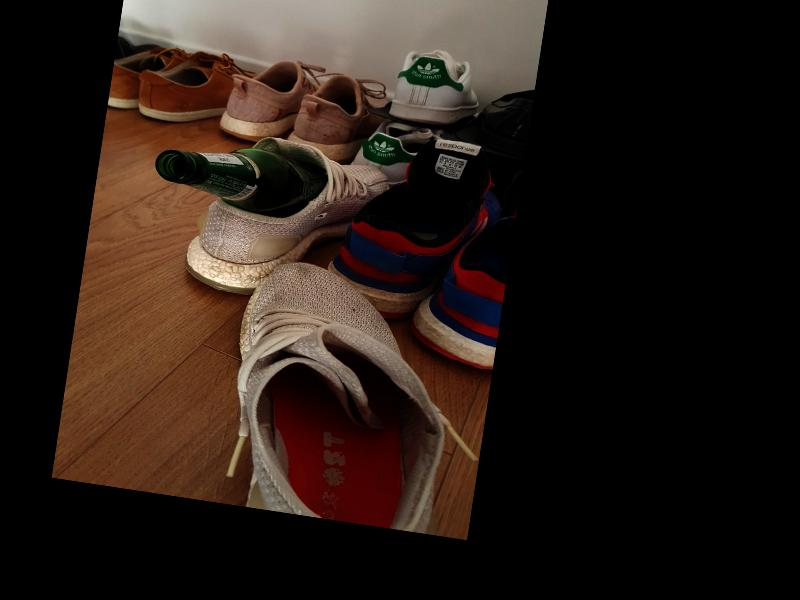Beer: (150, 135, 330, 223)
